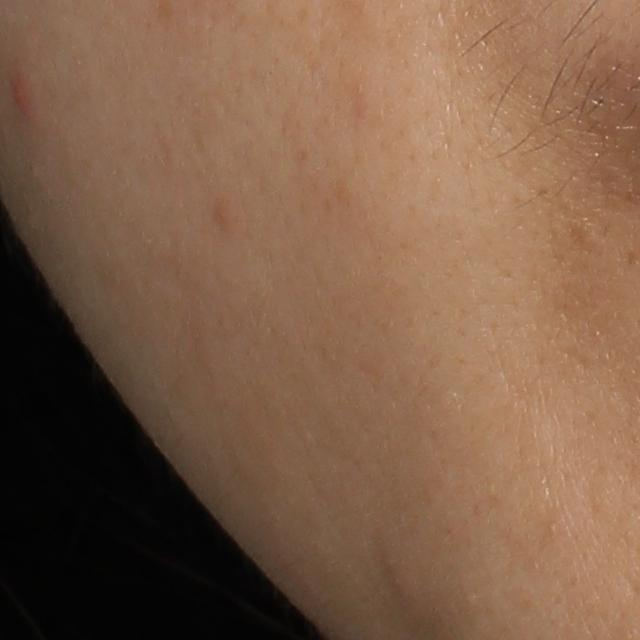papule: (10, 77, 35, 119)
